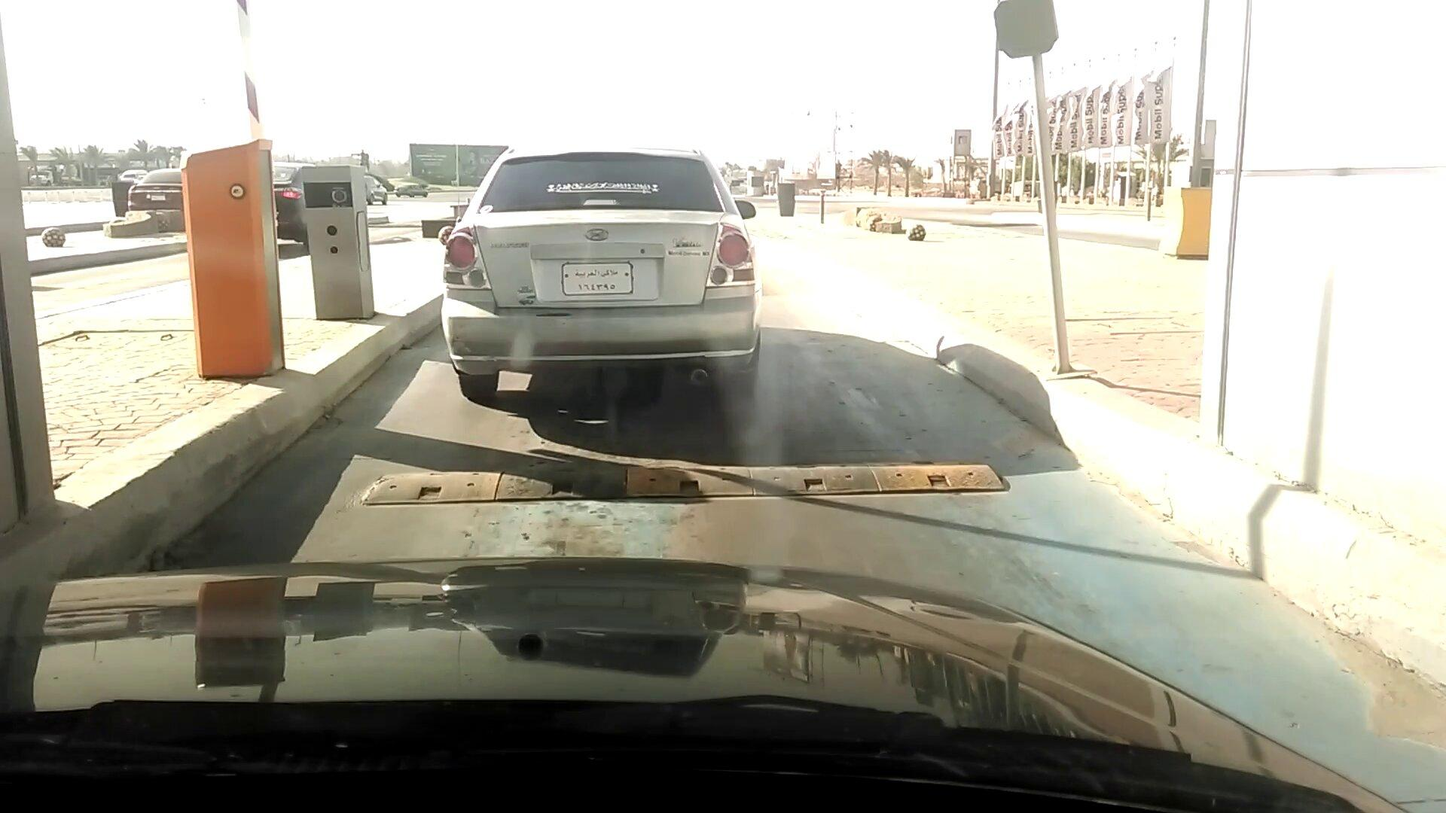Bump: (369, 452, 1017, 512)
